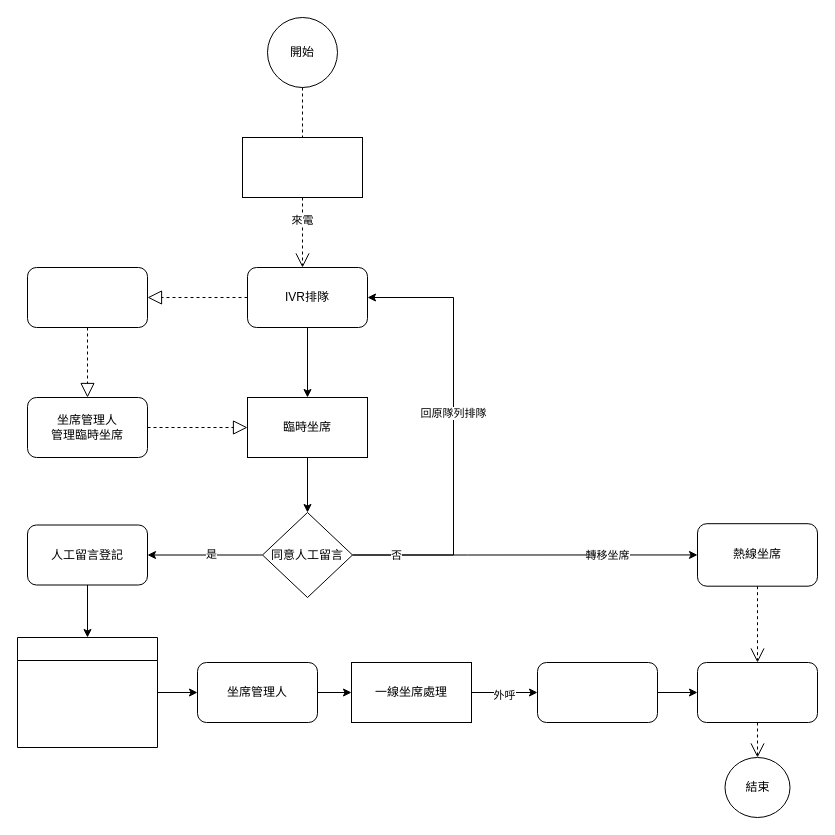
Some shapes in this 835 by 835 pixel diagram are drawn without their labels. Here are the shapes that lost their labels. From the top down, the box of each, then its label:
(242, 136, 362, 198): 客戶
(26, 266, 148, 328): 監控大屏提示
(16, 636, 158, 748): 留言池
(536, 662, 658, 722): 電話回訪客戶
(696, 662, 818, 722): 業務處理
